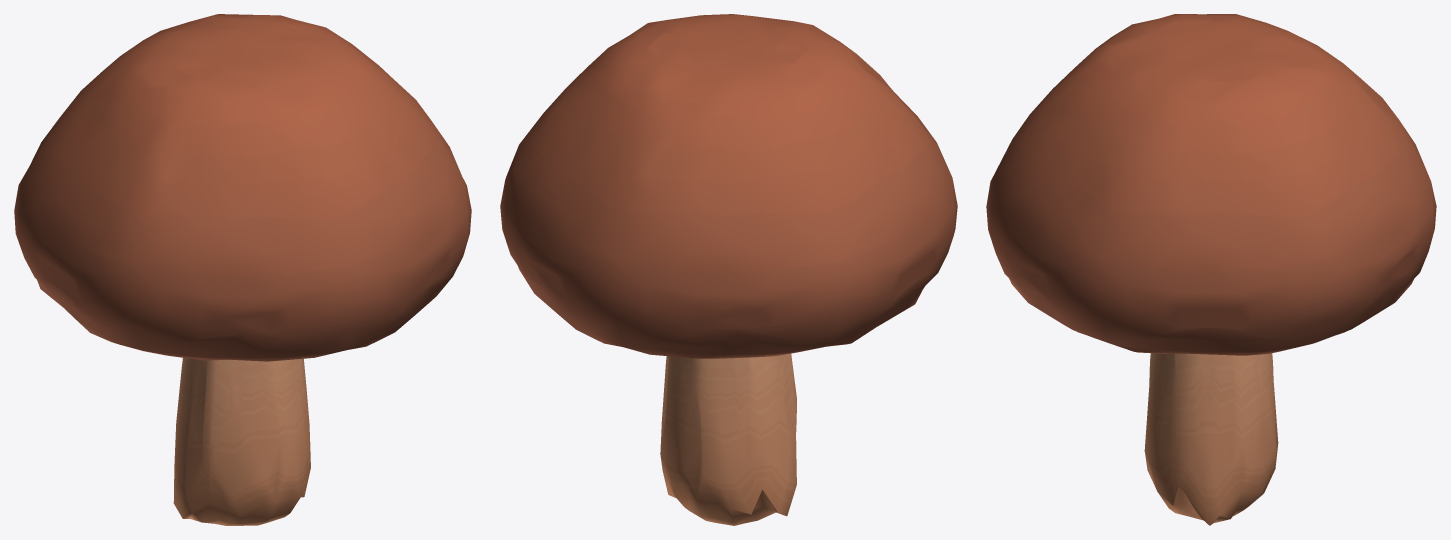
3 views of the same model, side by side, from view 1: azimuth 30°, elevation 25°; view 2: azimuth 150°, elevation 25°; view 3: azimuth 270°, elevation 25° (orthographic).
Bounding box in the file's own units: 0.8324 × 0.9654 × 0.8635.
Materials: 1 (1 with a texture image).
